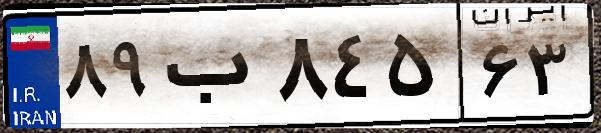3: (525, 38, 570, 115)
4: (330, 28, 385, 110)
5: (385, 28, 445, 110)
6: (475, 38, 525, 113)
8: (270, 28, 330, 110), (57, 26, 110, 100)
9: (110, 28, 158, 98)
ب: (158, 20, 270, 120)
